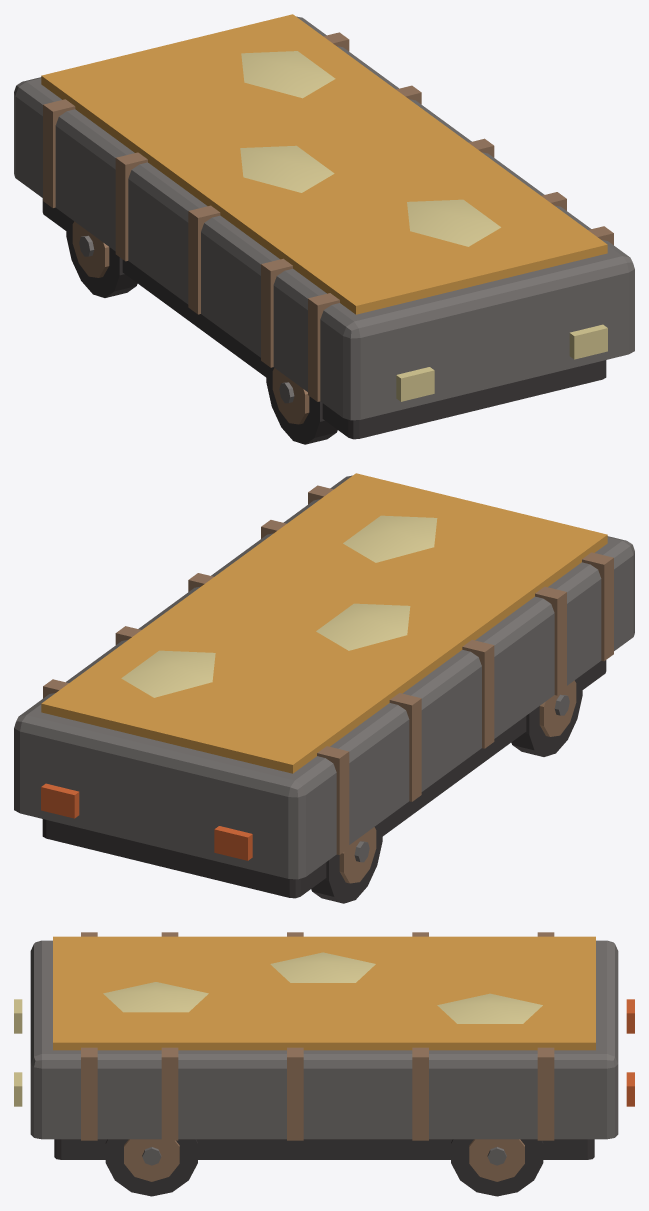
The model's file is rn2-forja-car.glb.
The picture shows the model from 3 angles, top to bottom: view 1: azimuth 30°, elevation 25°; view 2: azimuth 150°, elevation 25°; view 3: azimuth 270°, elevation 25°; orthographic projection. The views are drawn at different scales.
Visible parts, largest first — view 1: rn2_forja_car_glow, rn2_forja_car_body; view 2: rn2_forja_car_glow, rn2_forja_car_body; view 3: rn2_forja_car_body, rn2_forja_car_glow.
Part boxes in pixels (<box>): rn2_forja_car_glow: <box>41,14,607,401</box>; rn2_forja_car_body: <box>14,16,634,444</box>; rn2_forja_car_glow: <box>41,473,607,860</box>; rn2_forja_car_body: <box>14,475,634,903</box>; rn2_forja_car_body: <box>30,932,618,1196</box>; rn2_forja_car_glow: <box>14,936,634,1106</box>.
Size of the model in its own units: 2.12 by 1.28 by 4.46.
